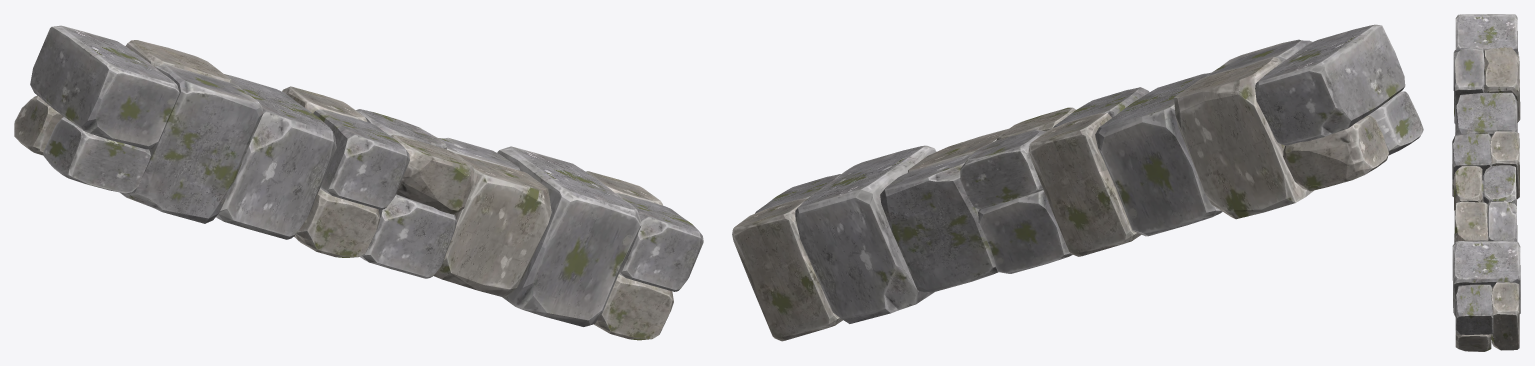
3 views of the same model, side by side, from view 1: azimuth 30°, elevation 25°; view 2: azimuth 150°, elevation 25°; view 3: azimuth 270°, elevation 25° (orthographic). The views are drawn at different scales.
Parts seen in each view (by area): view 1: SM_BB_T3_Beam_Thick_Large_Diagonal_LOD0; view 2: SM_BB_T3_Beam_Thick_Large_Diagonal_LOD0; view 3: SM_BB_T3_Beam_Thick_Large_Diagonal_LOD0.
Part boxes in pixels (bbox=[...]): SM_BB_T3_Beam_Thick_Large_Diagonal_LOD0: bbox=[14, 25, 703, 340]; SM_BB_T3_Beam_Thick_Large_Diagonal_LOD0: bbox=[732, 24, 1423, 341]; SM_BB_T3_Beam_Thick_Large_Diagonal_LOD0: bbox=[1452, 14, 1520, 351].
Size of the model in its own units: 3.24 by 1.98 by 0.6014.
1 material, 1 textured.
